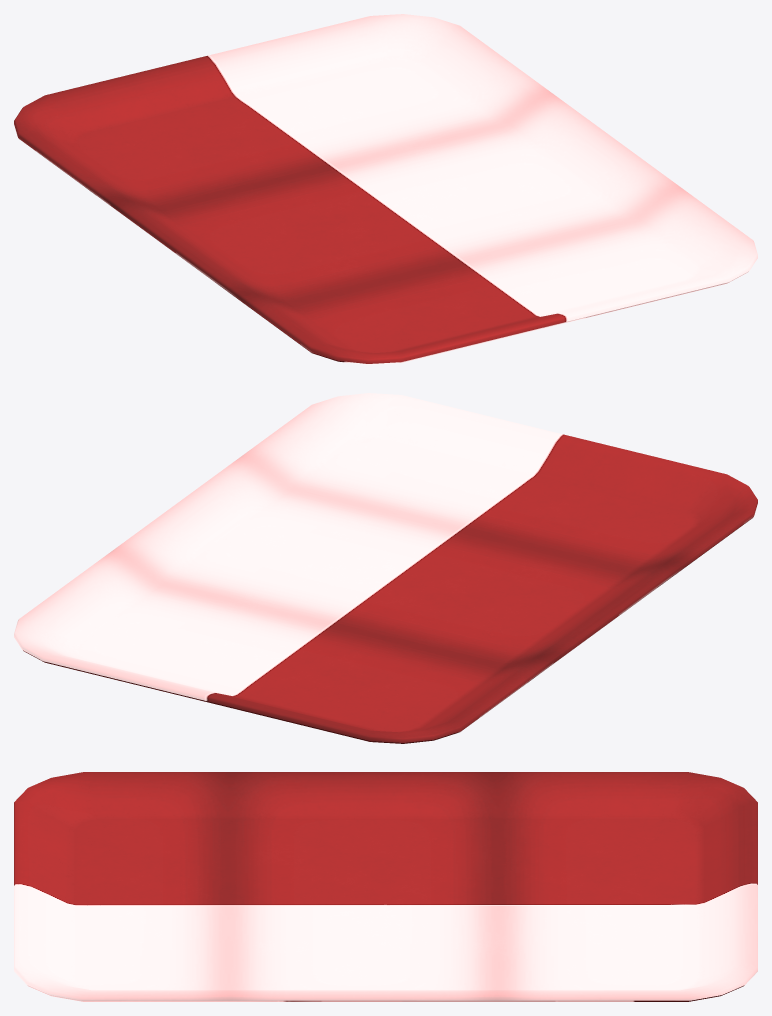
File: SM_Tray_01.fbx
3 views of the same model, one above another, from view 1: azimuth 30°, elevation 25°; view 2: azimuth 150°, elevation 25°; view 3: azimuth 270°, elevation 25° (orthographic). The views are drawn at different scales.
Visible parts, largest first — view 1: SM_Tray_01_LOD0; view 2: SM_Tray_01_LOD0; view 3: SM_Tray_01_LOD0.
Part boxes in pixels (box(x1,y1,x2,y2)): SM_Tray_01_LOD0: box(14, 14, 757, 364); SM_Tray_01_LOD0: box(14, 393, 757, 743); SM_Tray_01_LOD0: box(14, 772, 757, 1001).
Bounding box in the file's own units: 29.36 × 41.14 × 1.68.
